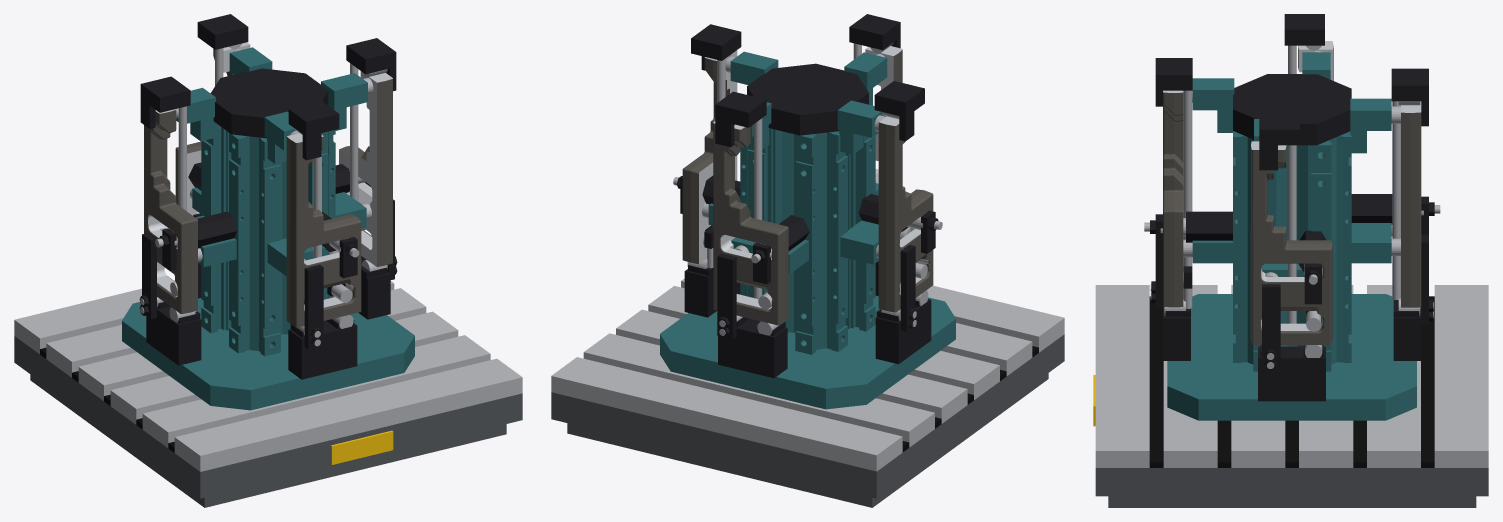
The model's file is pallet_part00_phase20_loaded.glb.
3 views of the same model, side by side, from view 1: azimuth 30°, elevation 25°; view 2: azimuth 150°, elevation 25°; view 3: azimuth 270°, elevation 25° (orthographic). The views are drawn at different scales.
Visible parts, largest first — view 1: fixture__fx_paint, pallet_body__pb_steel, fixture__fx_oxide, pallet_body__pb_steel_dark, part_1__part_raw, part_4__part_raw, fixture__fx_steel, part_2__part_raw, part_2__part_machined, gripper_jaw_1__fx_oxide, gripper_jaw_7__fx_oxide, gripper_jaw_3__fx_oxide (+4 smaller); view 2: fixture__fx_paint, pallet_body__pb_steel, fixture__fx_oxide, pallet_body__pb_steel_dark, part_3__part_raw, part_4__part_raw, fixture__fx_steel, part_2__part_raw, gripper_jaw_5__fx_oxide, gripper_jaw_7__fx_oxide, gripper_jaw_1__fx_oxide, gripper_jaw_3__fx_oxide (+3 smaller); view 3: fixture__fx_paint, pallet_body__pb_steel, fixture__fx_oxide, pallet_body__pb_steel_dark, part_2__part_raw, pallet_body__pb_rubber, fixture__fx_steel, part_1__part_raw, part_3__part_raw, gripper_jaw_3__fx_oxide, gripper_jaw_5__fx_oxide, gripper_jaw_1__fx_oxide (+2 smaller).
Part boxes in pixels (left/top/right/bottom): fixture__fx_paint: left=122, top=47, right=414, bottom=410; pallet_body__pb_steel: left=14, top=280, right=522, bottom=471; fixture__fx_oxide: left=139, top=68, right=397, bottom=379; pallet_body__pb_steel_dark: left=14, top=336, right=522, bottom=507; part_1__part_raw: left=286, top=136, right=361, bottom=327; part_4__part_raw: left=144, top=110, right=197, bottom=314; fixture__fx_steel: left=140, top=48, right=387, bottom=346; part_2__part_raw: left=340, top=79, right=392, bottom=266; part_2__part_machined: left=339, top=71, right=392, bottom=266; gripper_jaw_1__fx_oxide: left=288, top=101, right=339, bottom=160; gripper_jaw_7__fx_oxide: left=140, top=76, right=190, bottom=128; gripper_jaw_3__fx_oxide: left=346, top=38, right=396, bottom=91; fixture__fx_paint: left=660, top=51, right=955, bottom=409; pallet_body__pb_steel: left=551, top=278, right=1064, bottom=471; fixture__fx_oxide: left=676, top=63, right=938, bottom=378; pallet_body__pb_steel_dark: left=551, top=334, right=1064, bottom=507; part_3__part_raw: left=713, top=123, right=788, bottom=325; part_4__part_raw: left=878, top=122, right=933, bottom=312; fixture__fx_steel: left=673, top=43, right=942, bottom=335; part_2__part_raw: left=682, top=58, right=729, bottom=264; gripper_jaw_5__fx_oxide: left=715, top=91, right=766, bottom=147; gripper_jaw_7__fx_oxide: left=874, top=81, right=924, bottom=141; gripper_jaw_1__fx_oxide: left=849, top=14, right=900, bottom=50; gripper_jaw_3__fx_oxide: left=691, top=24, right=741, bottom=70; fixture__fx_paint: left=1167, top=52, right=1416, bottom=420; pallet_body__pb_steel: left=1095, top=285, right=1488, bottom=467; fixture__fx_oxide: left=1150, top=74, right=1434, bottom=401; pallet_body__pb_steel_dark: left=1095, top=468, right=1488, bottom=507; part_2__part_raw: left=1250, top=147, right=1332, bottom=344; pallet_body__pb_rubber: left=1149, top=296, right=1434, bottom=467; fixture__fx_steel: left=1144, top=45, right=1440, bottom=368; part_1__part_raw: left=1163, top=92, right=1183, bottom=307; part_3__part_raw: left=1401, top=112, right=1421, bottom=307; gripper_jaw_3__fx_oxide: left=1259, top=113, right=1299, bottom=170; gripper_jaw_5__fx_oxide: left=1391, top=68, right=1428, bottom=126; gripper_jaw_1__fx_oxide: left=1155, top=58, right=1192, bottom=106.
Bounding box in the file's own units: 0.63 × 0.6341 × 0.634.
